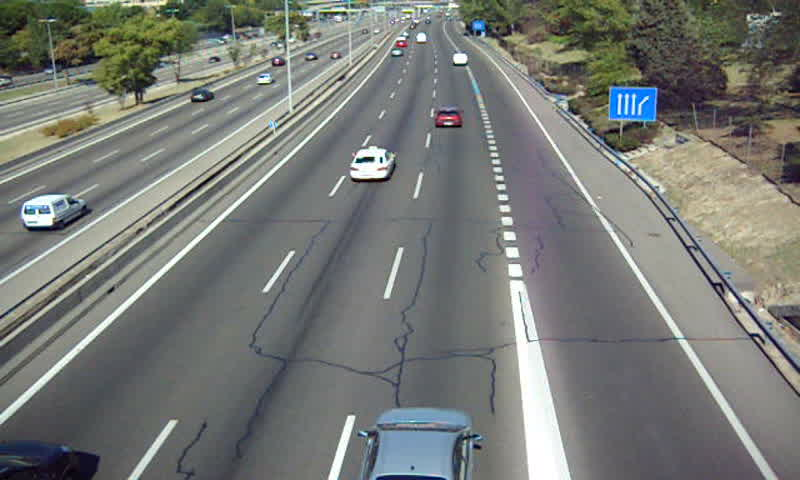car: (362, 408, 471, 480), (350, 147, 396, 179), (434, 108, 462, 130)
van: (452, 52, 468, 66)
